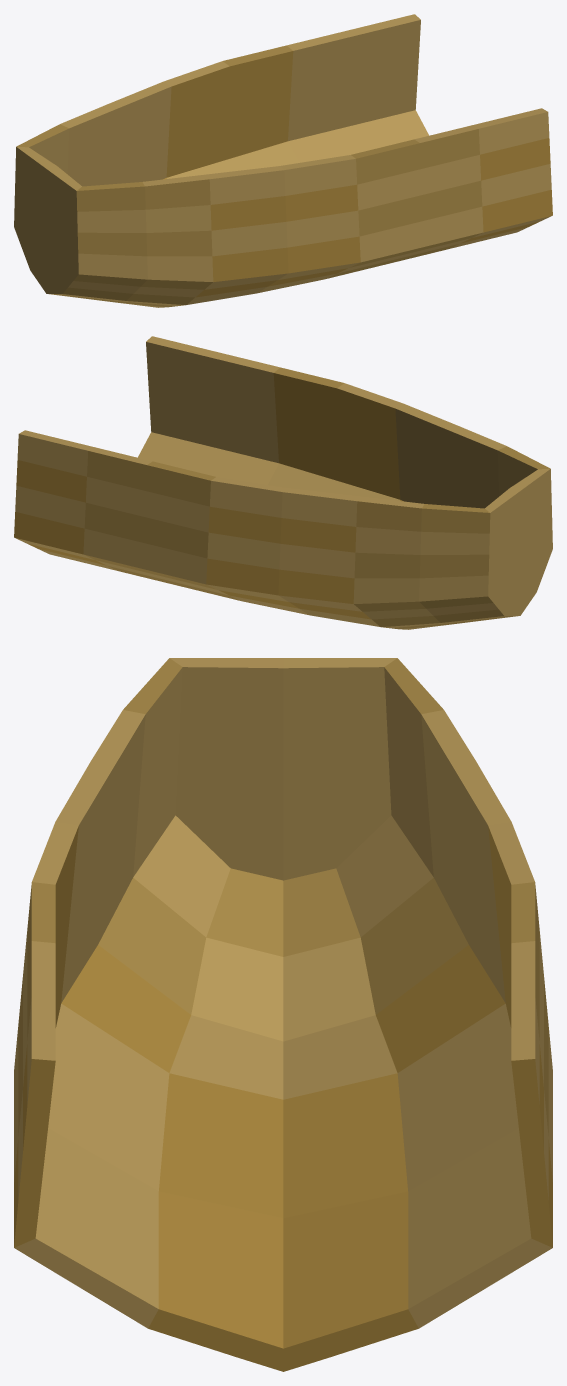
File: pari.fbx
3 views of the same model, one above another, from view 1: azimuth 30°, elevation 25°; view 2: azimuth 150°, elevation 25°; view 3: azimuth 270°, elevation 25° (orthographic). The views are drawn at different scales.
Visible parts, largest first — view 1: pari; view 2: pari; view 3: pari.
Part boxes in pixels (bbox=[...]): pari: bbox=[14, 14, 552, 307]; pari: bbox=[14, 336, 552, 629]; pari: bbox=[14, 658, 552, 1371].
Size of the model in its own units: 256 by 93.57 by 146.
